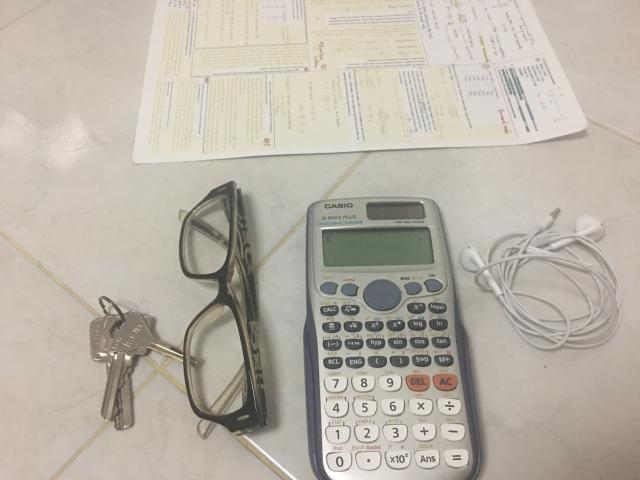Glasses: (179, 181, 266, 438)
Keys: (90, 296, 200, 430)
paper: (134, 0, 586, 162)
wire: (460, 209, 621, 350)
